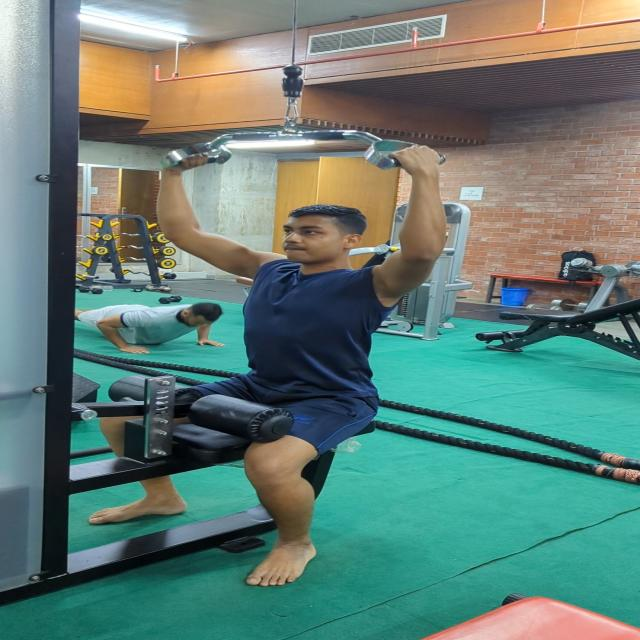Normal_LatPulldown: (80, 140, 462, 593)
